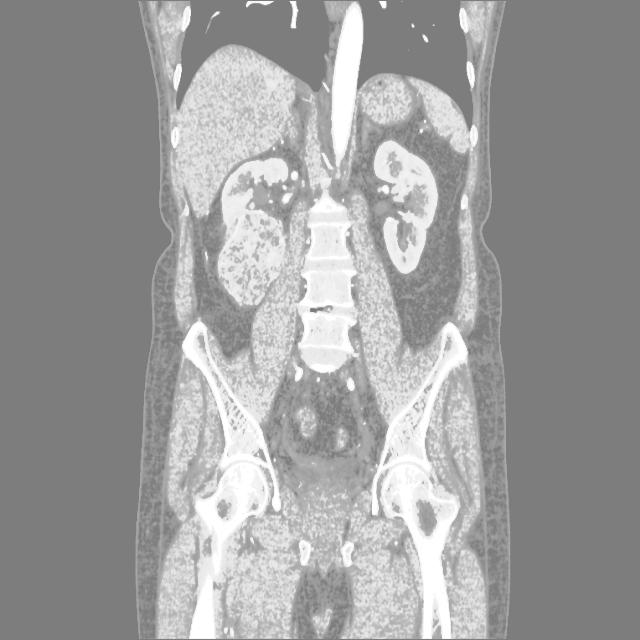TUMOR: (109, 143, 343, 311)
